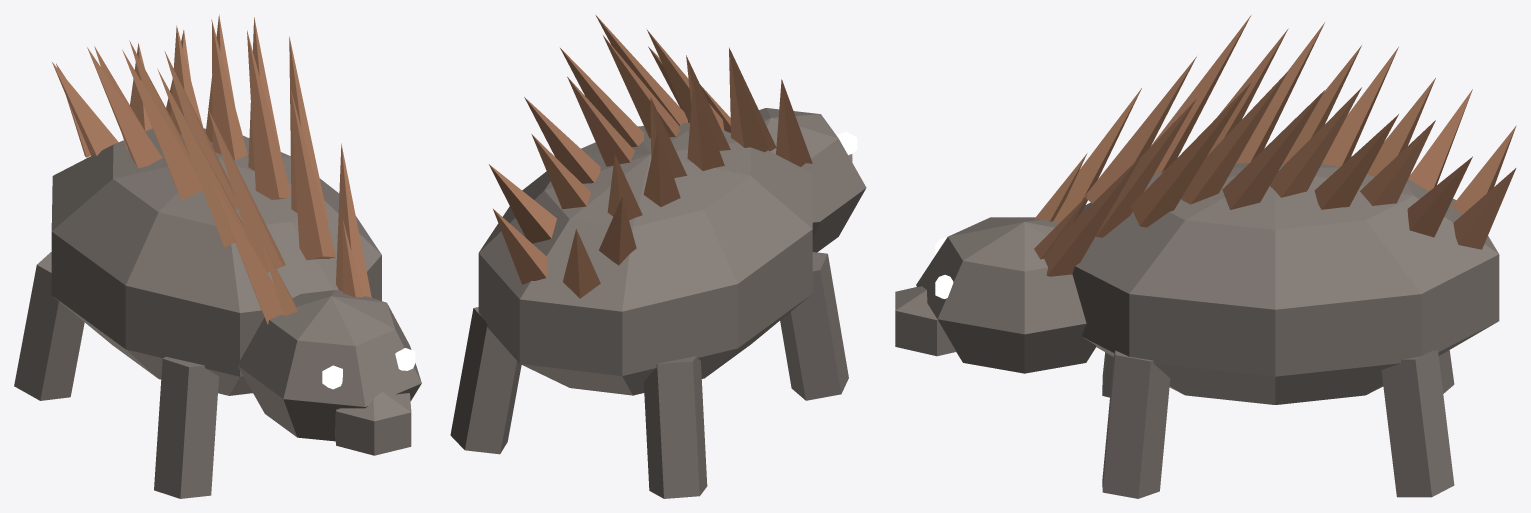
The model's file is dun.gltf.
3 views of the same model, side by side, from view 1: azimuth 30°, elevation 25°; view 2: azimuth 150°, elevation 25°; view 3: azimuth 270°, elevation 25° (orthographic). The views are drawn at different scales.
Size of the model in its own units: 0.7749 by 1.1 by 1.56.
